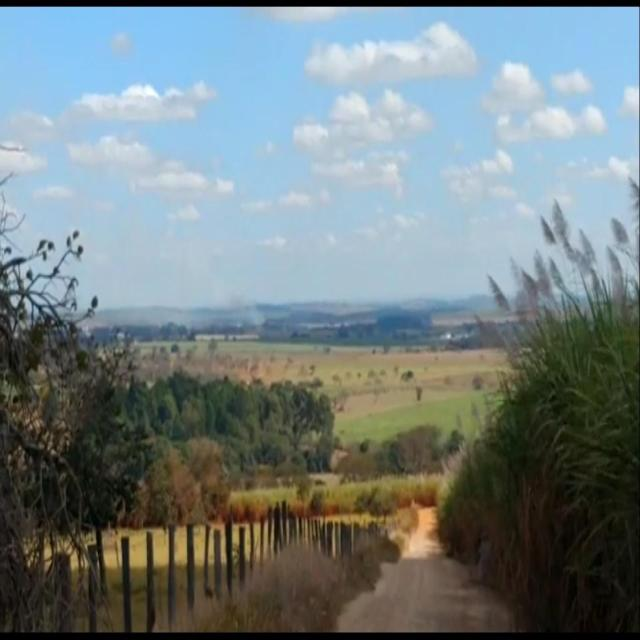Fire: (216, 285, 268, 326)
